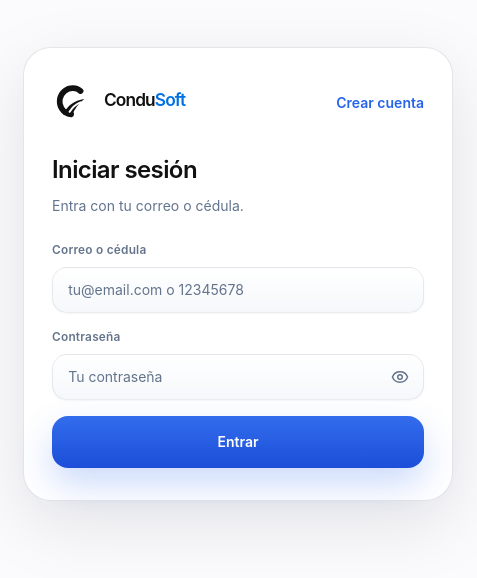
Test case: login navigation › muestra un fallo de cédula sin navegar ni reintentar
Step 1. Type "12345678" into the field labelled "Correo o cédula" → [238, 290], box [52,267,424,313]
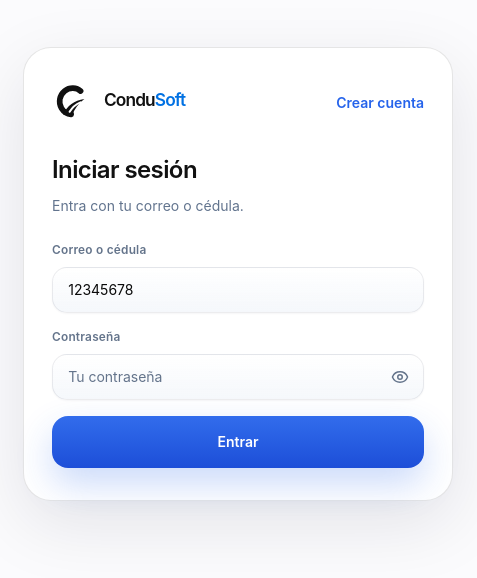
Step 2. Type "test-password" into the password field labelled "Contraseña" → [238, 377], box [52,354,424,400]
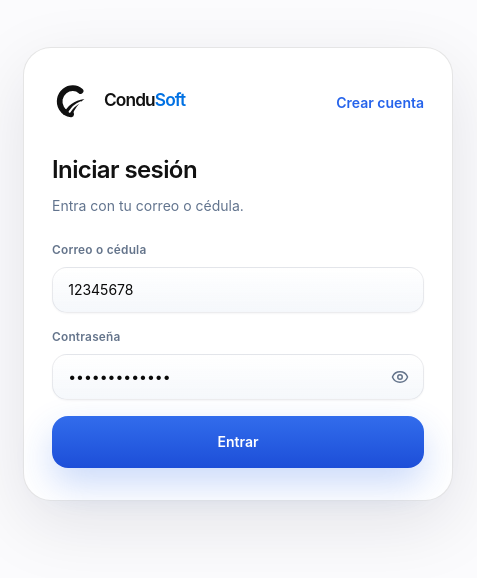
Step 3. Click the button "Entrar" → [238, 442], box [52,416,424,468]
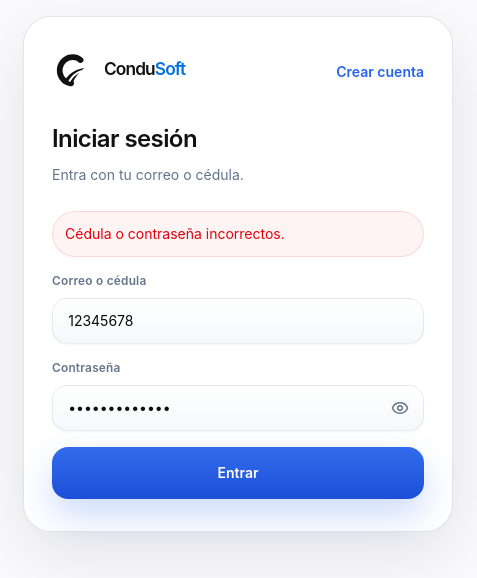
Expected: the button "Entrar" is enabled, [52,447,424,499]
Now the text "Cédula o contraseña incorrectos." is shown, box [52,211,424,257]
